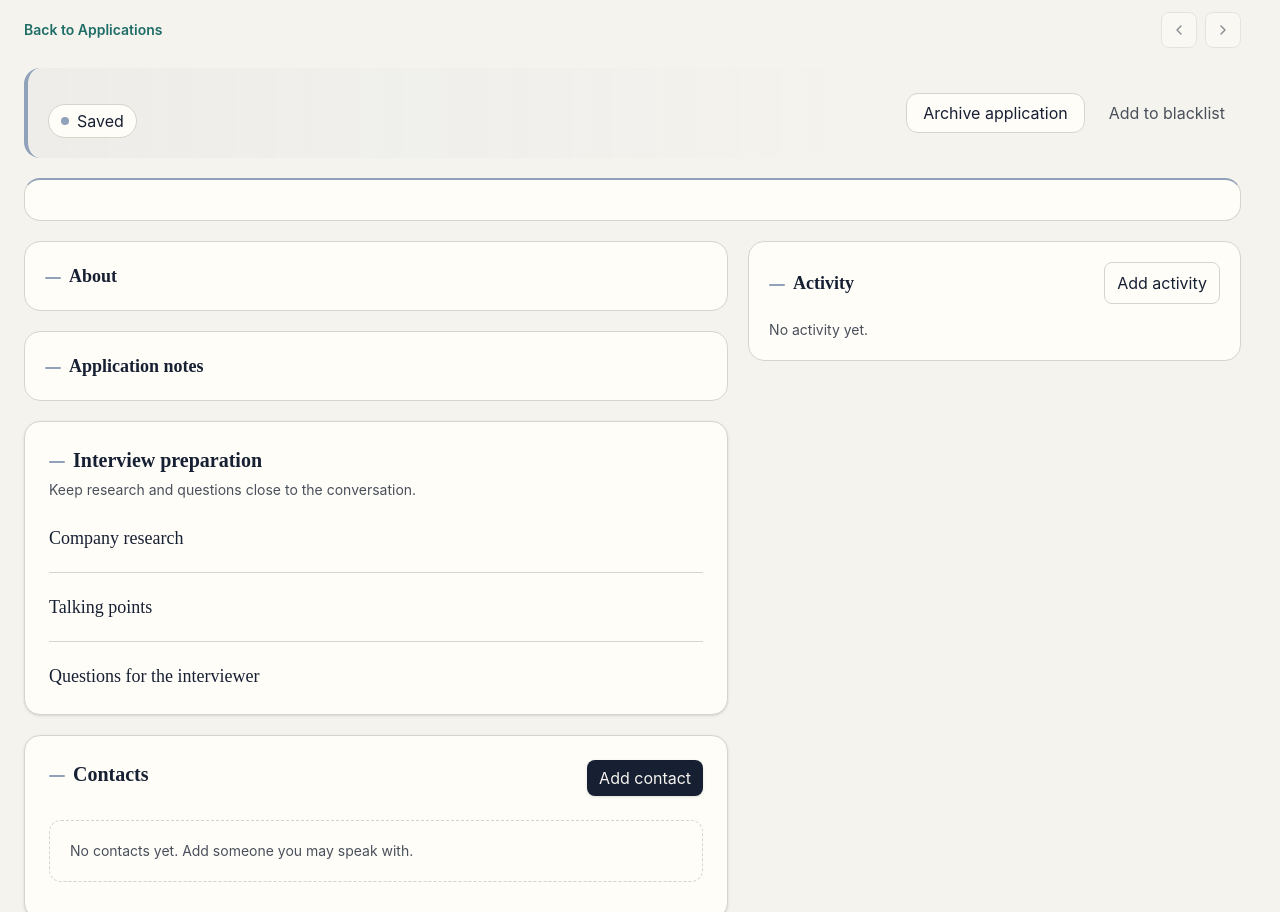
it: announces a failed status selection beside the status picker
Click the button with aria-label "Status, Change status" at (92, 121), box [48,104,137,138]
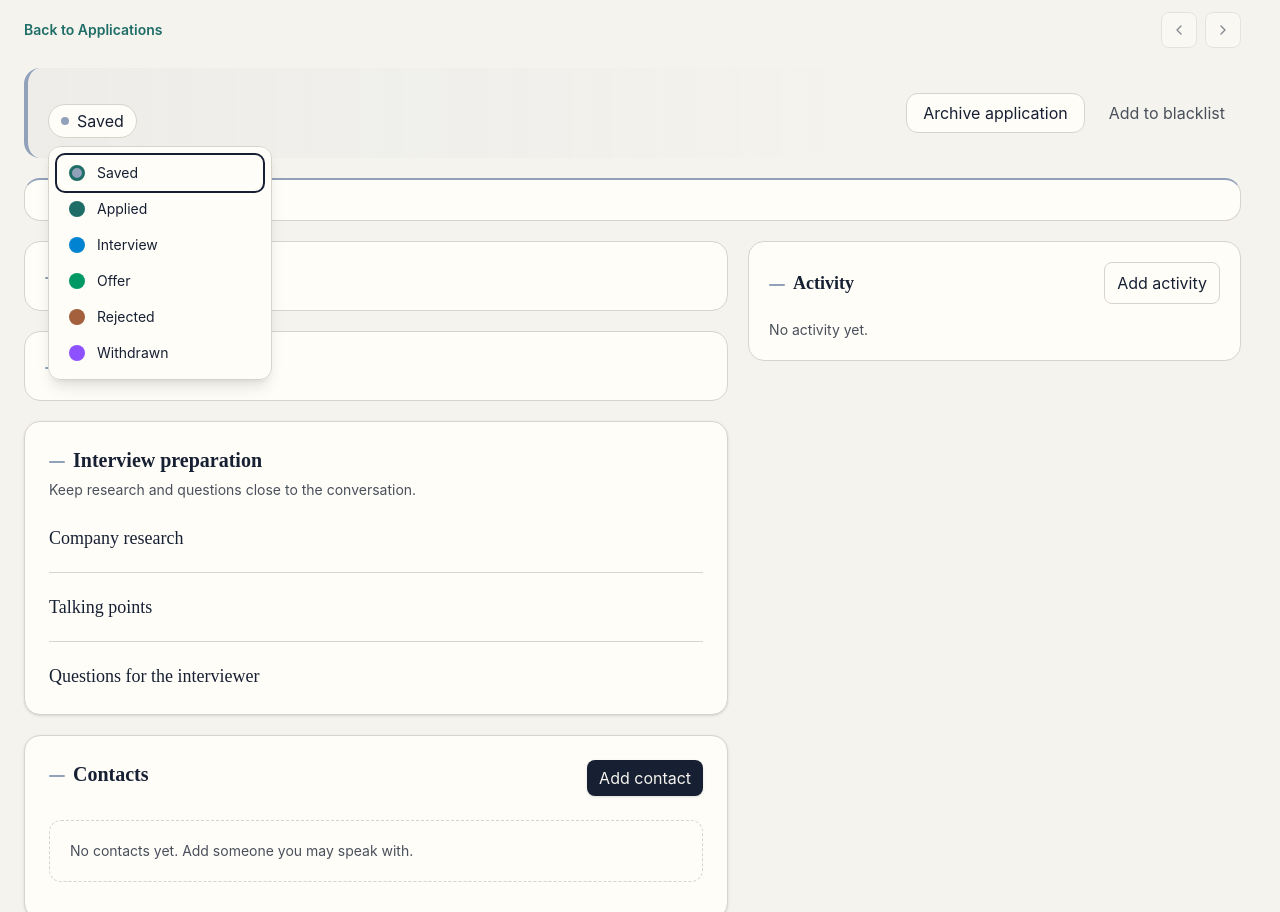
Click the radio button labelled "Applied" at (108, 208), box [69,200,147,217]
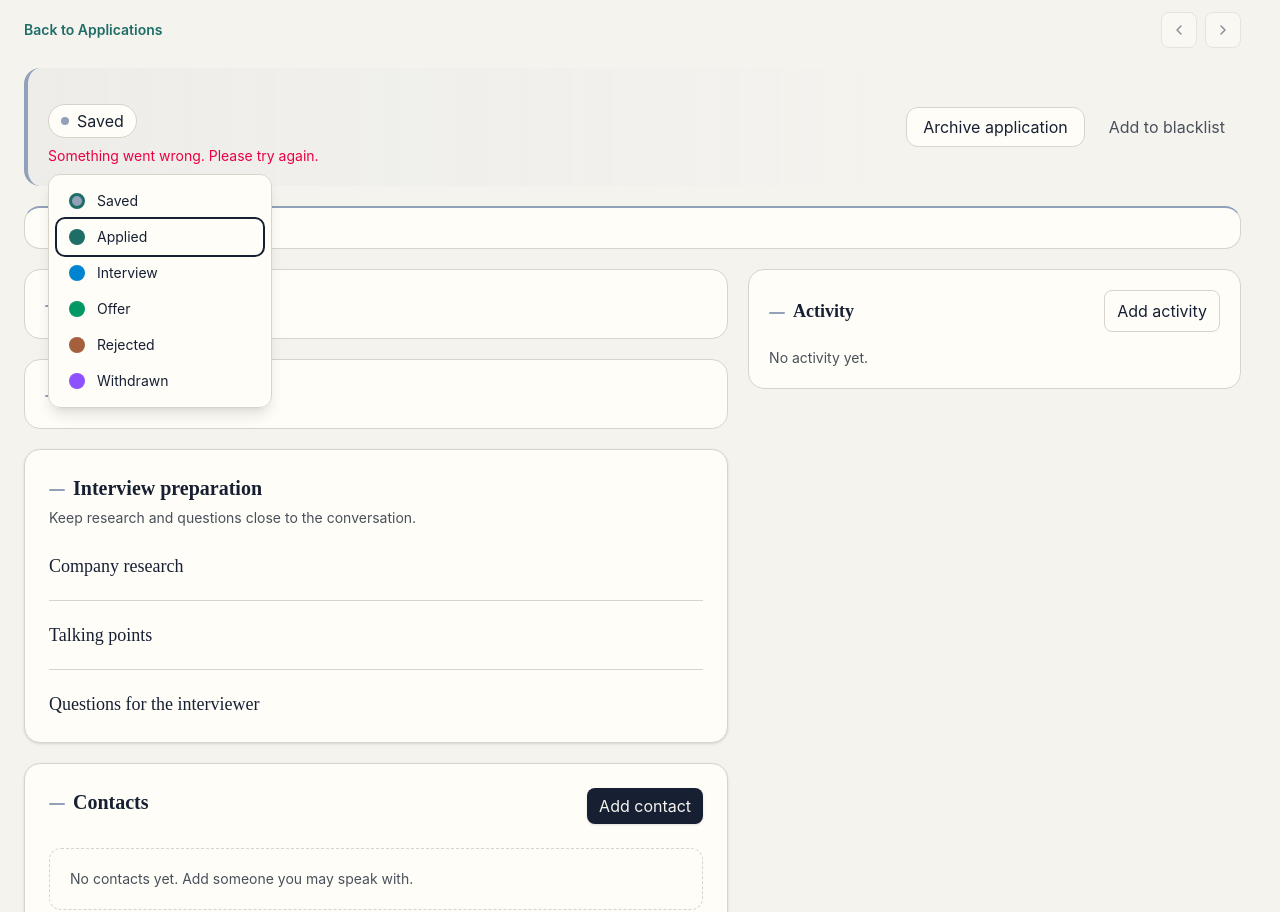
expect the button with aria-label "Status, Change status" is enabled: met, box [48,104,137,138]
expect the message reads "Something went wrong. Please try again.": met, box [48,147,319,164]
